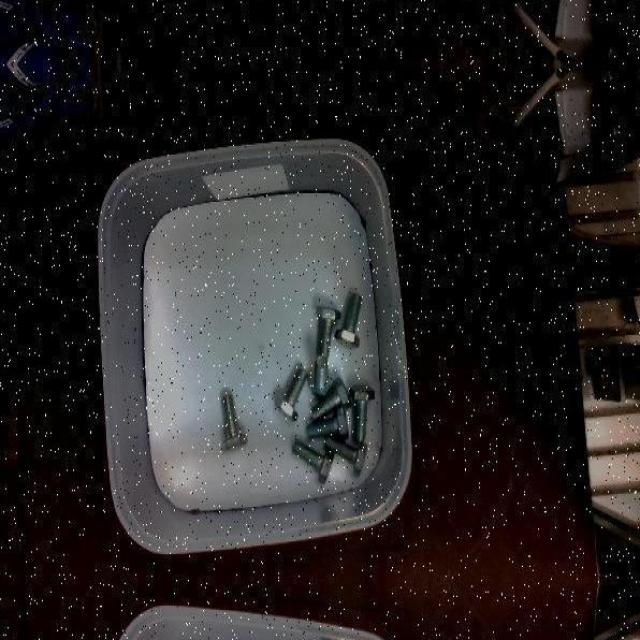screw: (292, 438, 334, 484), (274, 366, 307, 421), (312, 375, 352, 420), (326, 435, 368, 476), (335, 293, 363, 349), (221, 394, 248, 452), (307, 405, 349, 441), (350, 385, 375, 443), (316, 304, 342, 357), (308, 354, 333, 399)
